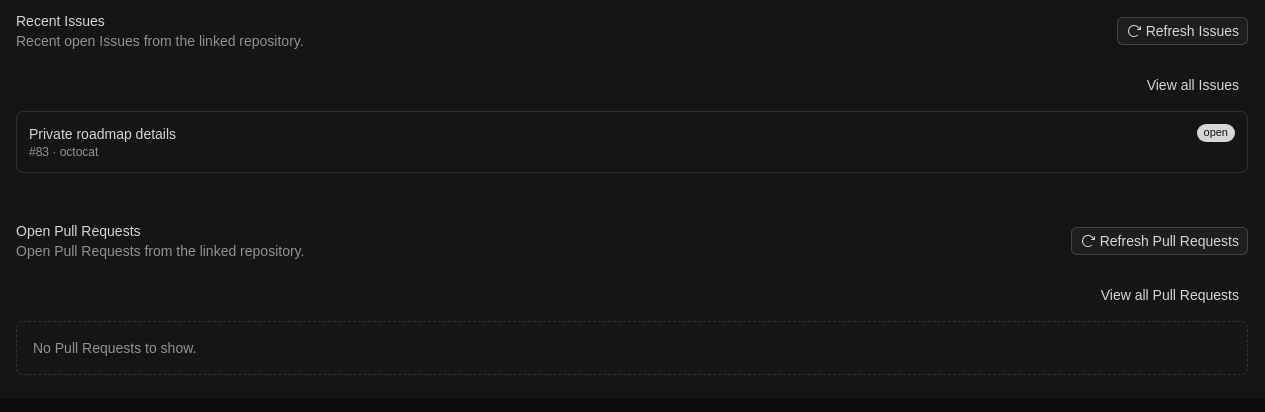
Test: ProjectGitHubOverview › hides previously loaded private titles when a refresh loses repository access
Expected: the text "Private roadmap details" is shown, left=29, top=124, right=176, bottom=144
Click the button "Refresh Issues" at (1182, 31), box left=1117, top=17, right=1248, bottom=45
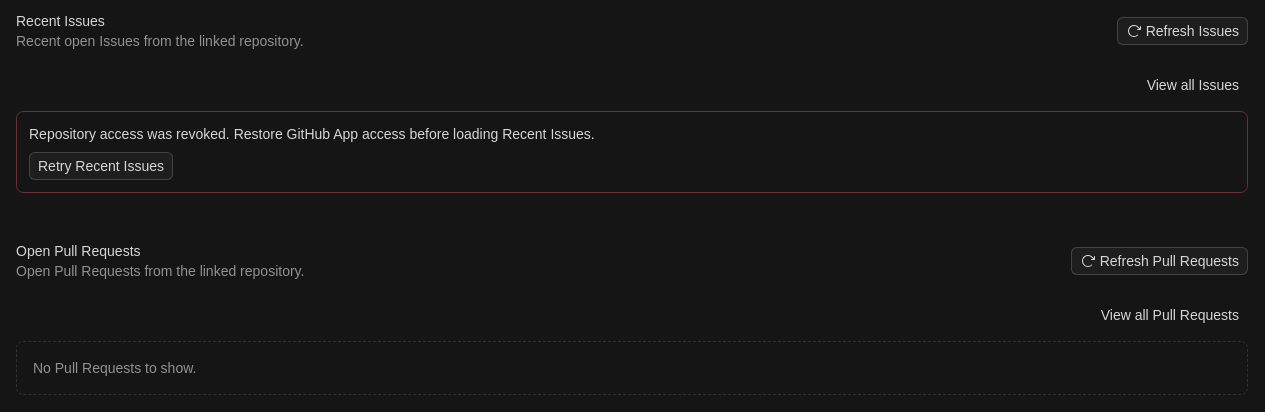
Expected: the message is shown, left=16, top=111, right=1248, bottom=193
Expected: the button "Private roadmap details" is gone
